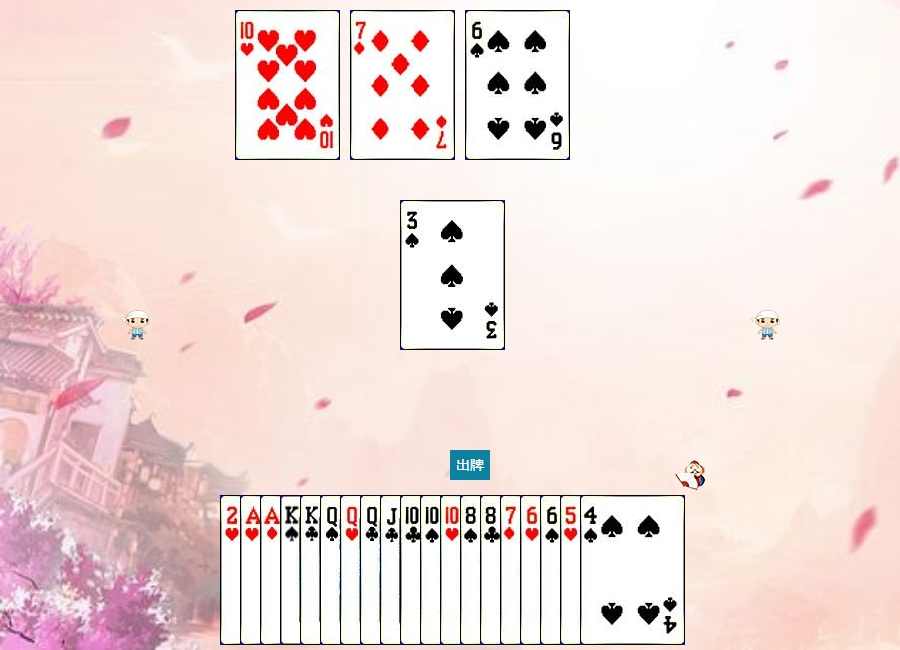10~2: (400, 495, 505, 645)
10~3: (235, 10, 340, 160), (440, 495, 545, 645)
10~4: (420, 495, 525, 645)
11~2: (380, 495, 485, 645)
12~2: (360, 495, 465, 645)
12~3: (340, 495, 445, 645)
12~4: (320, 495, 425, 645)
13~2: (300, 495, 405, 645)
13~4: (280, 495, 385, 645)
14~1: (260, 495, 365, 645)
14~3: (240, 495, 345, 645)
15~3: (220, 495, 325, 645)
3~4: (400, 200, 505, 350)
4~4: (580, 495, 685, 645)
5~3: (560, 495, 665, 645)
6~3: (520, 495, 625, 645)
6~4: (465, 10, 570, 160), (540, 495, 645, 645)
7~1: (350, 10, 455, 160), (500, 495, 605, 645)
8~2: (480, 495, 585, 645)
8~4: (460, 495, 565, 645)
